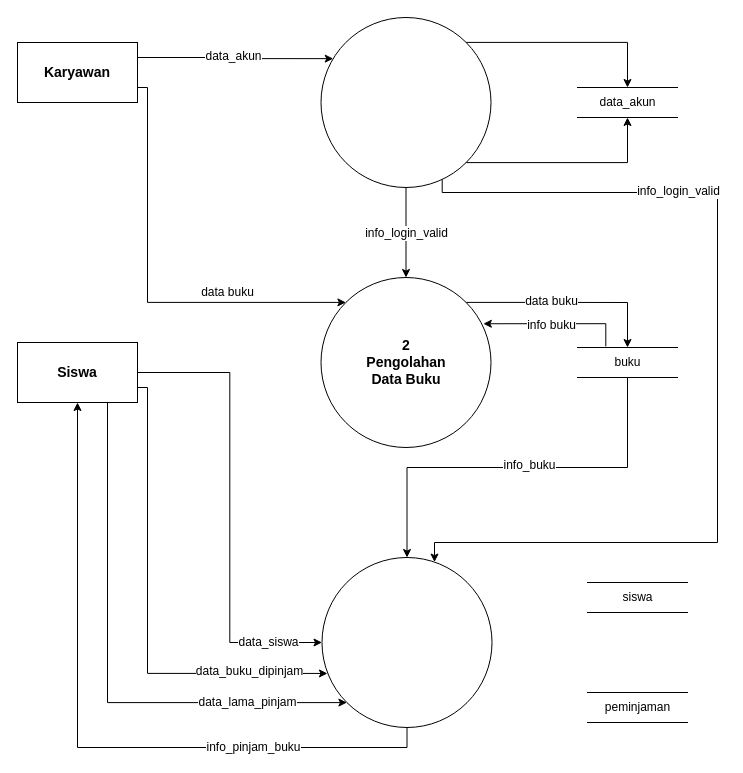
Some shapes in this 743 by 773 pixel diagram are drawn without their labels. Here are the shapes that lost their labels. From the top down, the centre of each, then its label:
At point (405, 102): "1 Login".
At point (406, 642): "3 Pengolahan Data Peminjaman".
